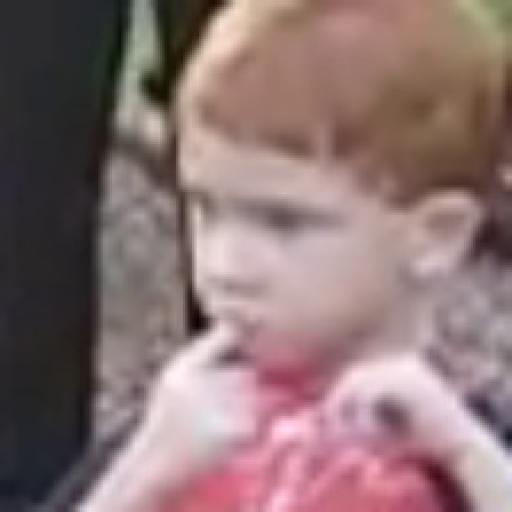Autism: (154, 4, 471, 406)
